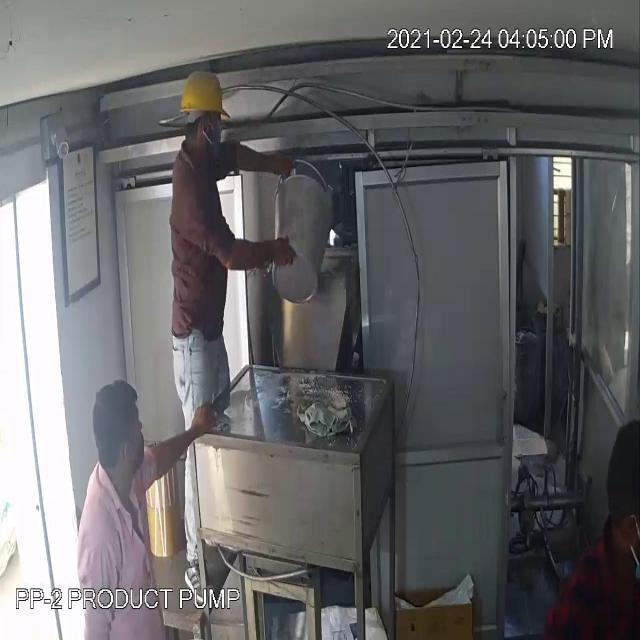helmet: (179, 61, 231, 130)
no-helmet: (90, 377, 146, 447)
